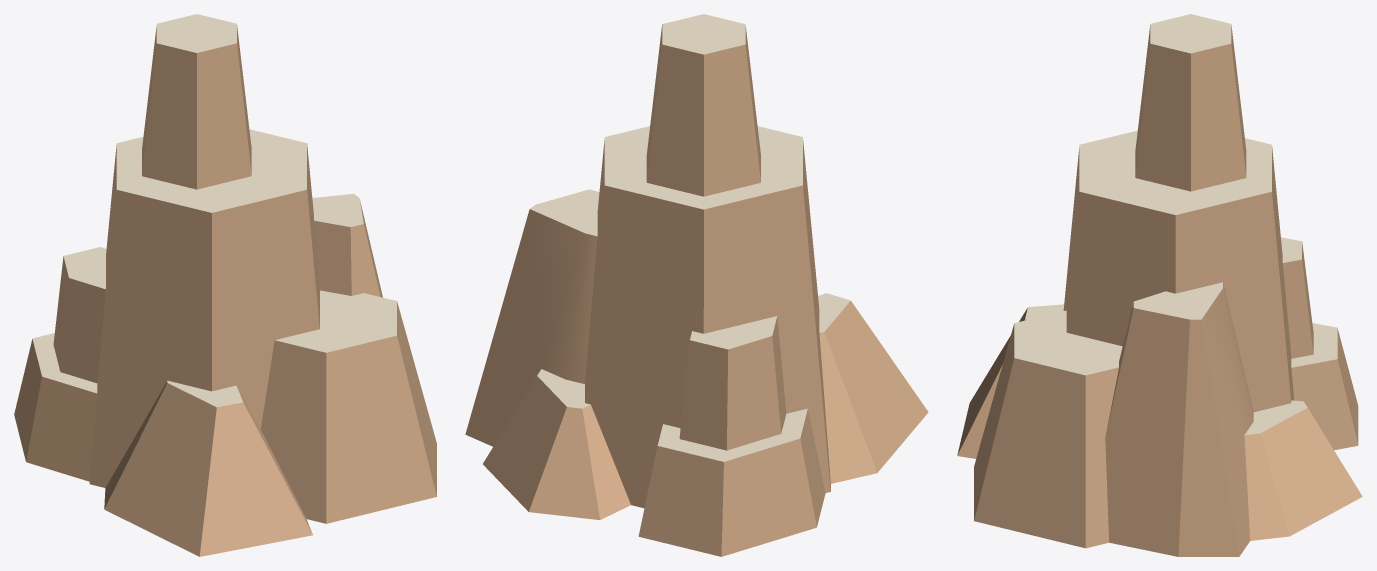
Rendered from cave.glb.
The picture shows the model from 3 angles, left to right: view 1: azimuth 30°, elevation 25°; view 2: azimuth 150°, elevation 25°; view 3: azimuth 270°, elevation 25°; orthographic projection. The views are drawn at different scales.
Parts seen in each view (by area): view 1: formation_rock; view 2: formation_rock; view 3: formation_rock.
Part boxes in pixels (<box>): formation_rock: <box>14,14,436,556</box>; formation_rock: <box>465,14,928,556</box>; formation_rock: <box>957,14,1362,556</box>.
Size of the model in its own units: 10.6 by 12.25 by 10.67.
